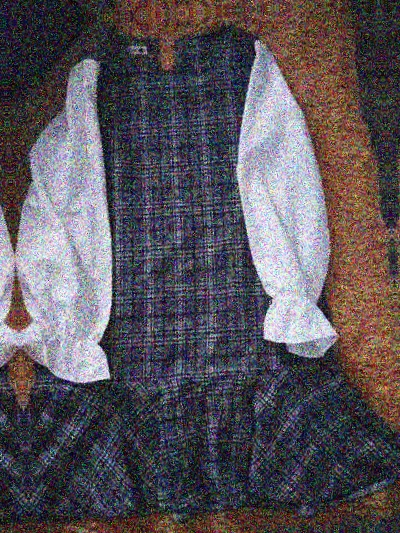Dress: (2, 13, 380, 533), (0, 33, 30, 533), (0, 0, 351, 13), (0, 0, 1, 33)
